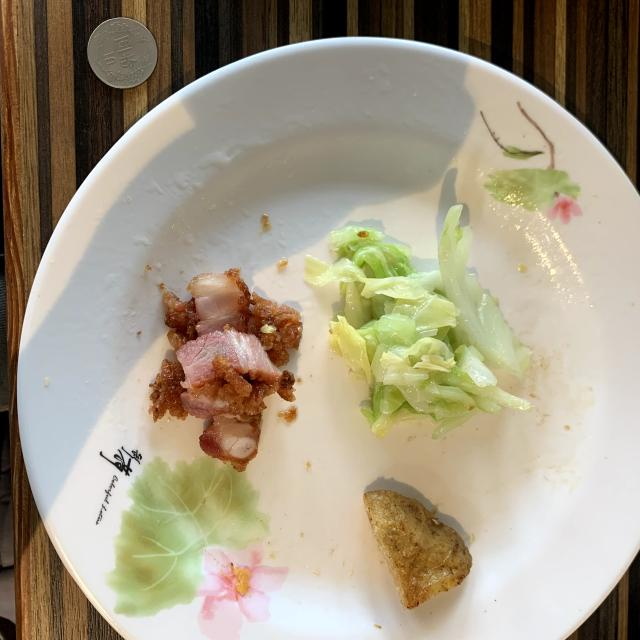cabbage: (305, 205, 530, 439)
coin: (88, 18, 158, 89)
fried potato: (364, 490, 472, 609)
red grilled pork: (149, 269, 302, 471)
